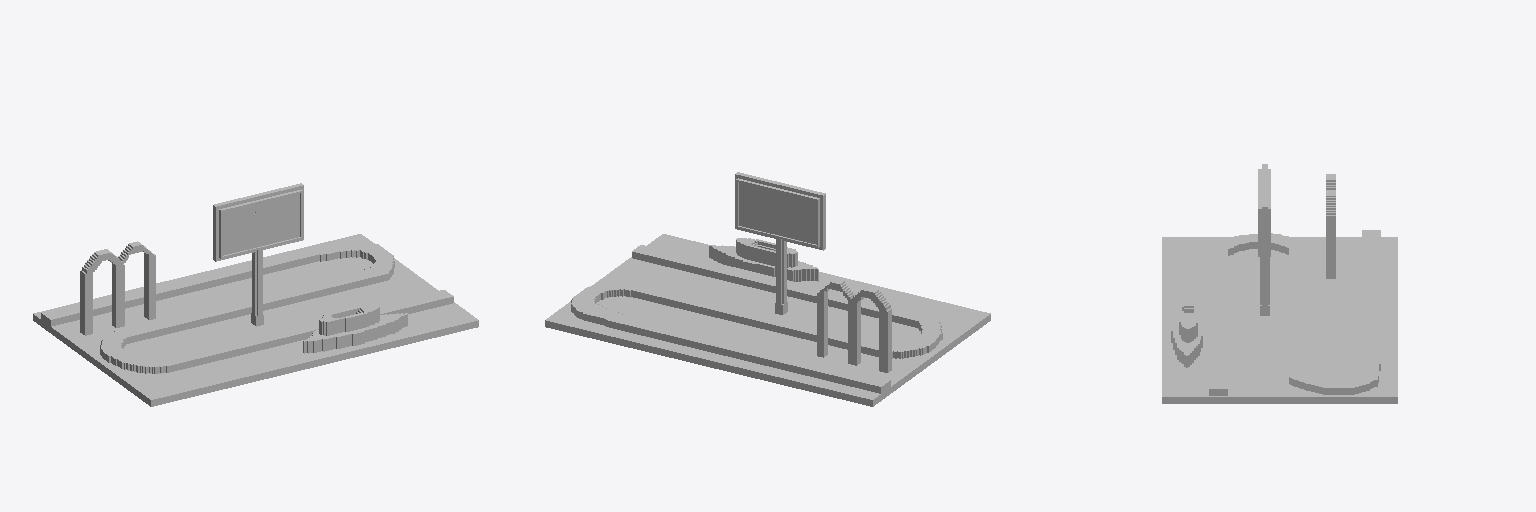
Rendered from map america.obj.
3 views of the same model, side by side, from view 1: azimuth 30°, elevation 25°; view 2: azimuth 150°, elevation 25°; view 3: azimuth 270°, elevation 25° (orthographic).
Parts seen in each view (by area): view 1: object 1; view 2: object 1; view 3: object 1.
Part boxes in pixels (x1,y1,x2,y2): object 1: (33, 183, 478, 406); object 1: (545, 172, 990, 406); object 1: (1162, 164, 1397, 403).
Bounding box in the file's own units: 20 × 7.9 × 12.5.